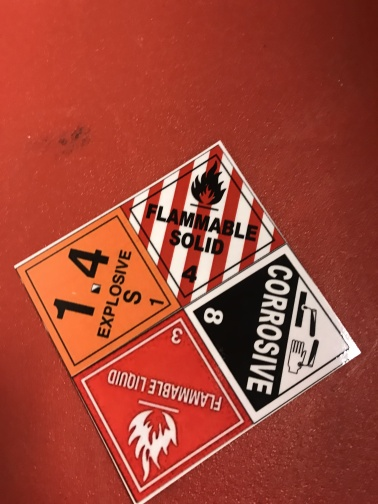Corrosive: (183, 245, 360, 421)
Explosive: (16, 206, 181, 376)
FlammableLiquid: (74, 309, 254, 504)
FlammableSolid: (119, 144, 284, 309)
